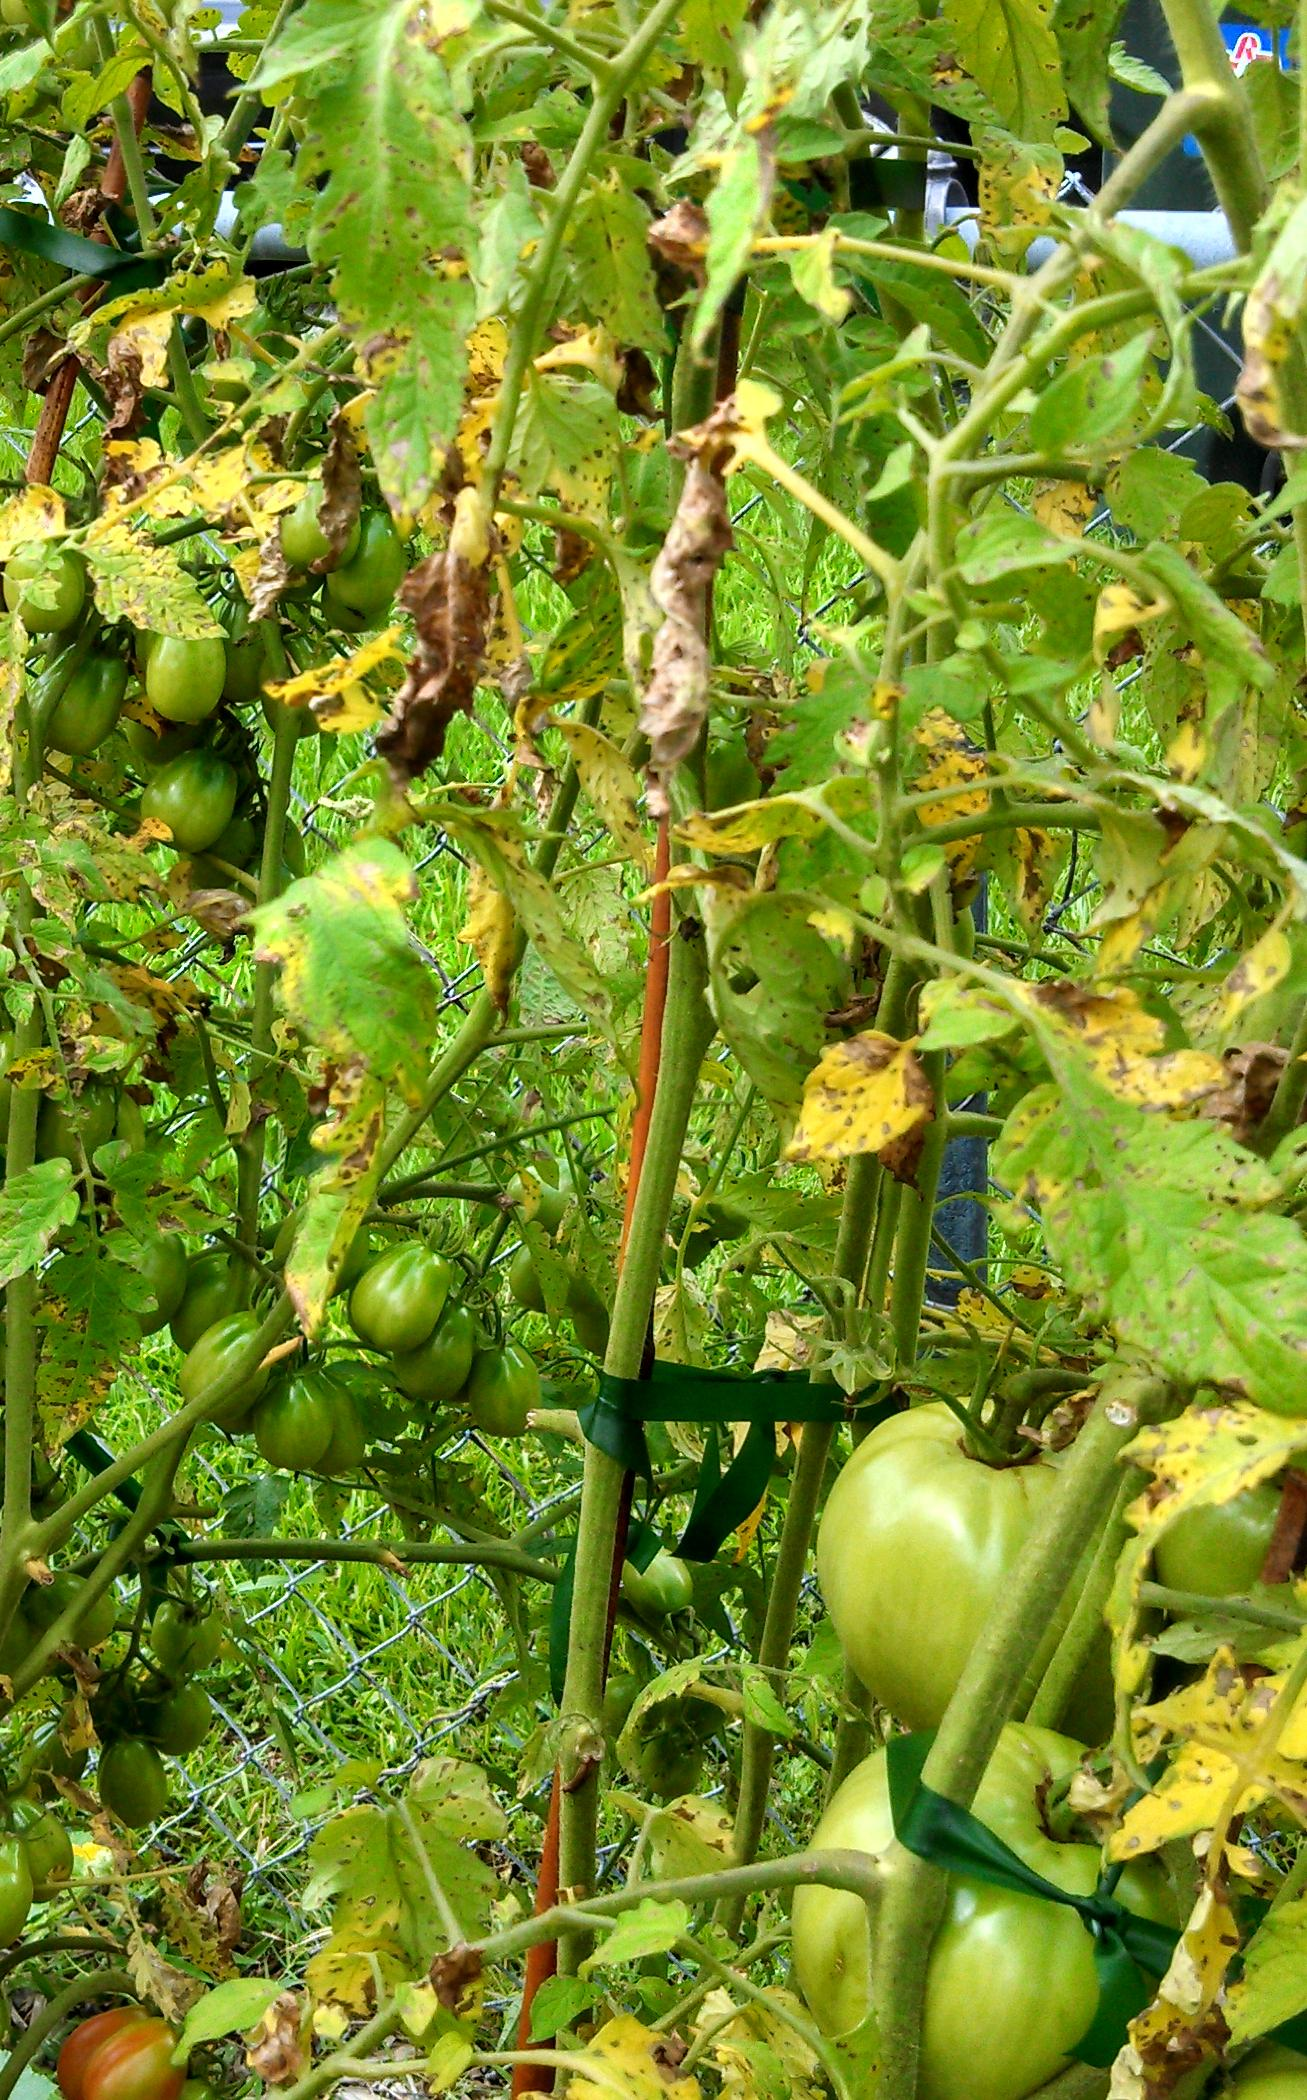Tomato Septoria leaf spot: (986, 1045, 1307, 1453), (315, 33, 495, 568)
